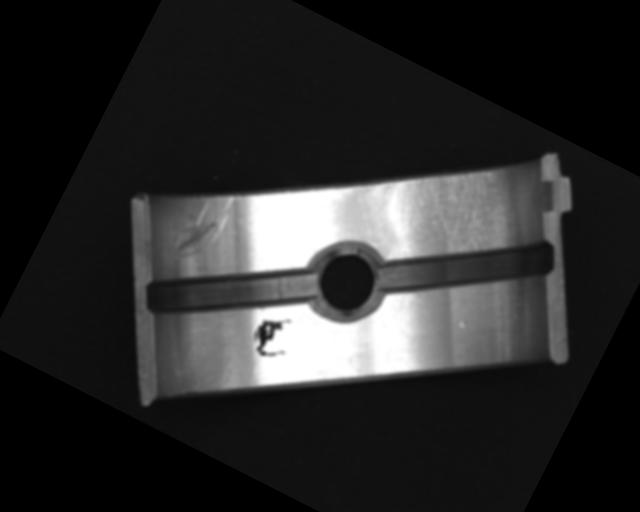blot: (245, 306, 301, 366)
bruise: (457, 317, 471, 331)
gap: (371, 179, 563, 353), (137, 208, 319, 371)
hole: (295, 232, 399, 335)
nick: (166, 180, 239, 272)
scratch: (358, 116, 538, 274)
